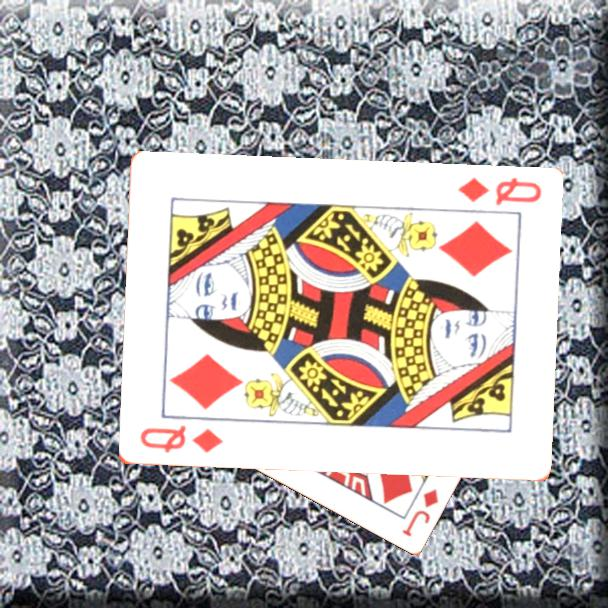d11: (398, 485, 441, 539)
d12: (136, 422, 225, 457), (454, 174, 543, 209)
